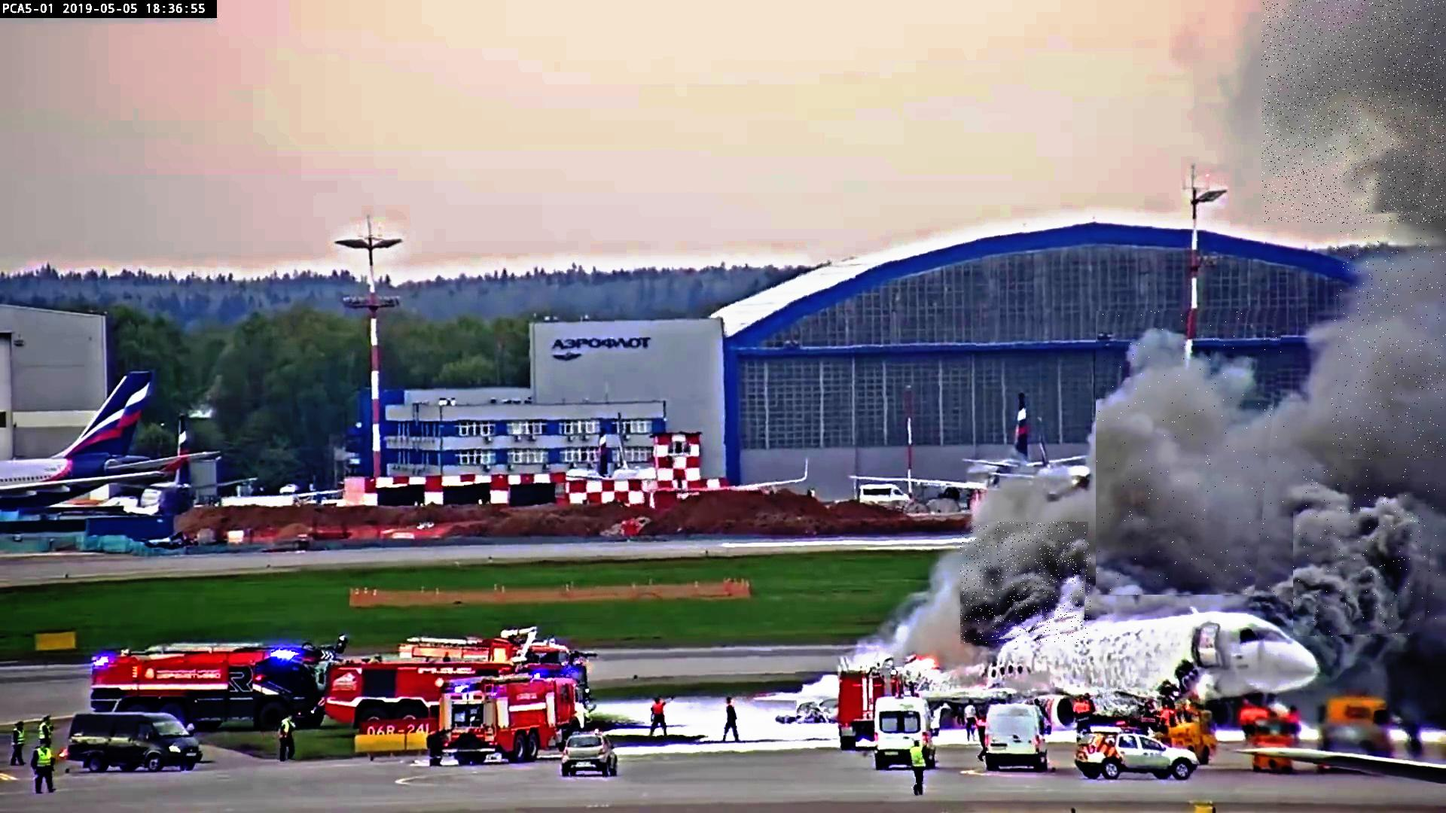smoke: (1096, 311, 1285, 595), (1262, 0, 1446, 224), (1332, 228, 1446, 459), (1294, 467, 1441, 637), (961, 522, 1091, 645)
